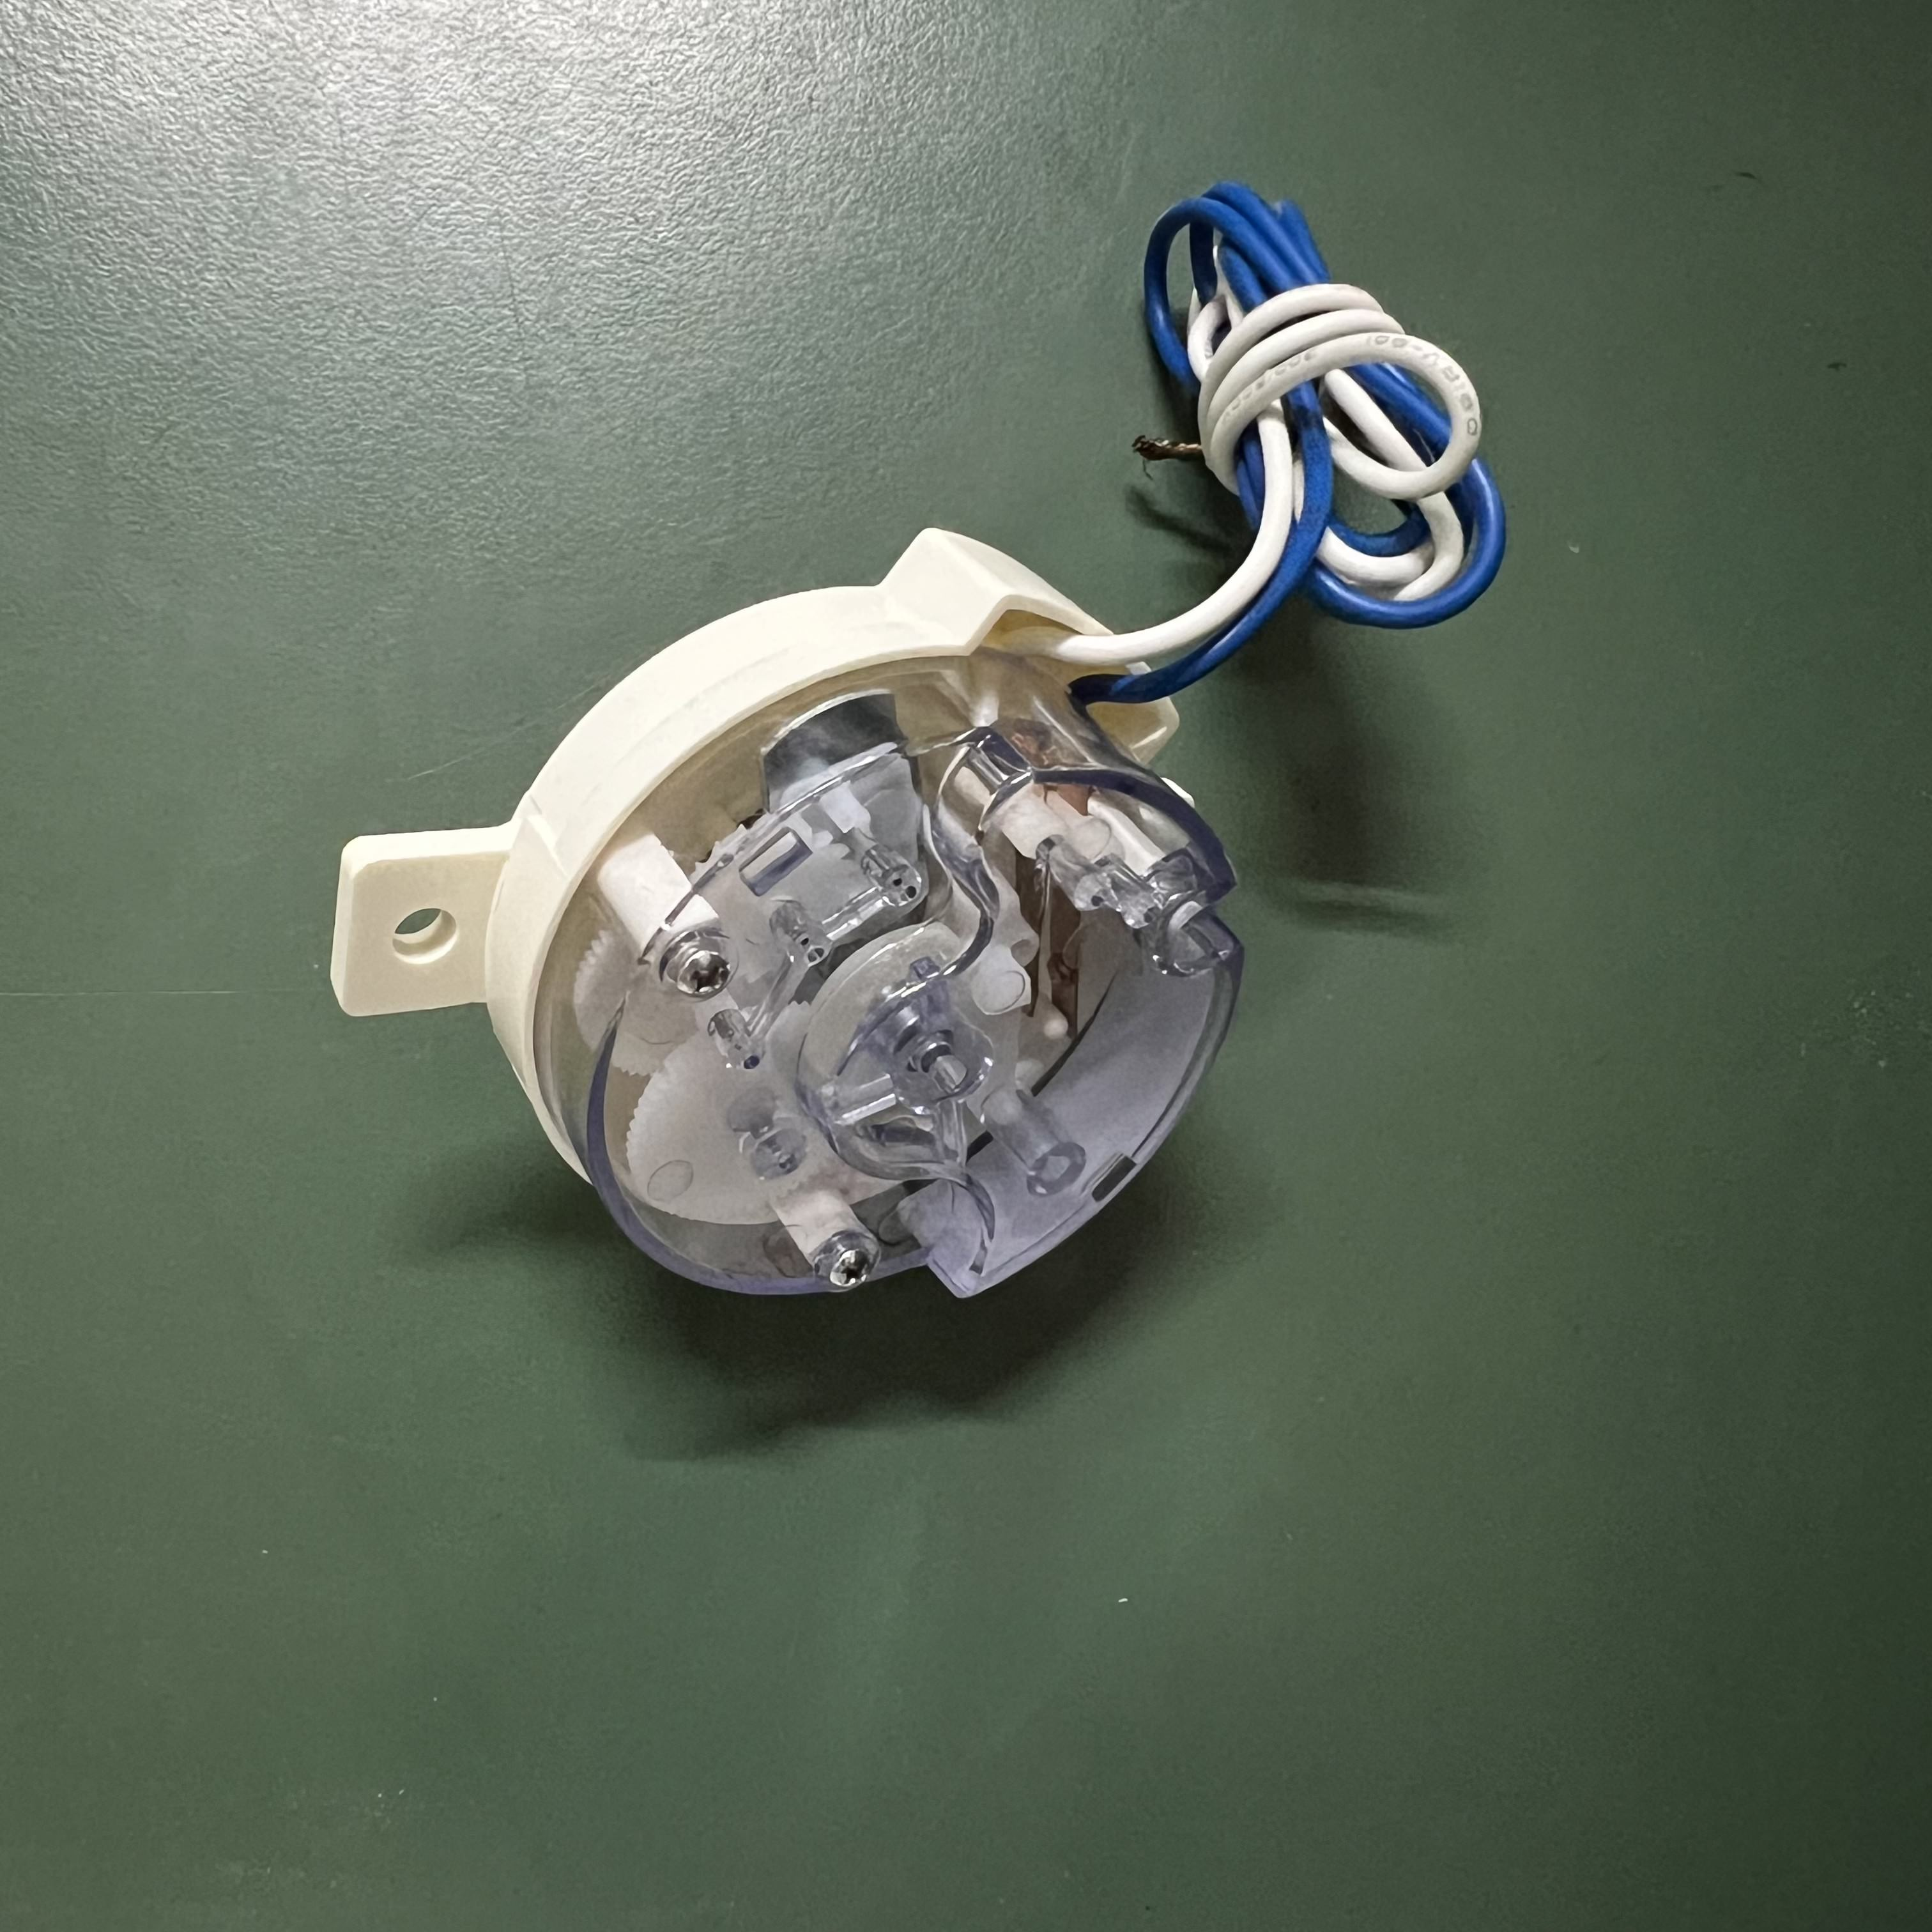circle_timer: (290, 173, 1548, 1348)
